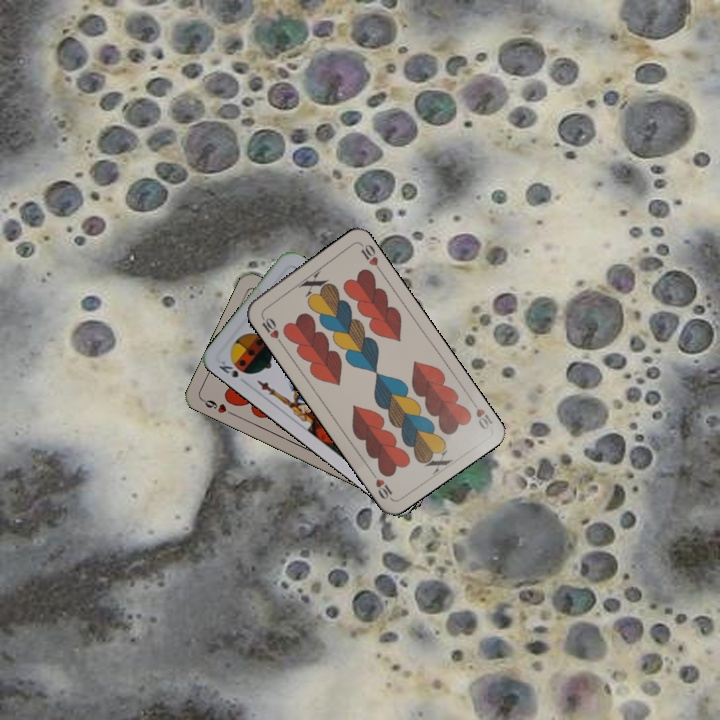H10: (466, 395, 495, 432), (257, 310, 285, 347)
H9: (198, 395, 236, 418)
SK: (215, 357, 241, 380)
